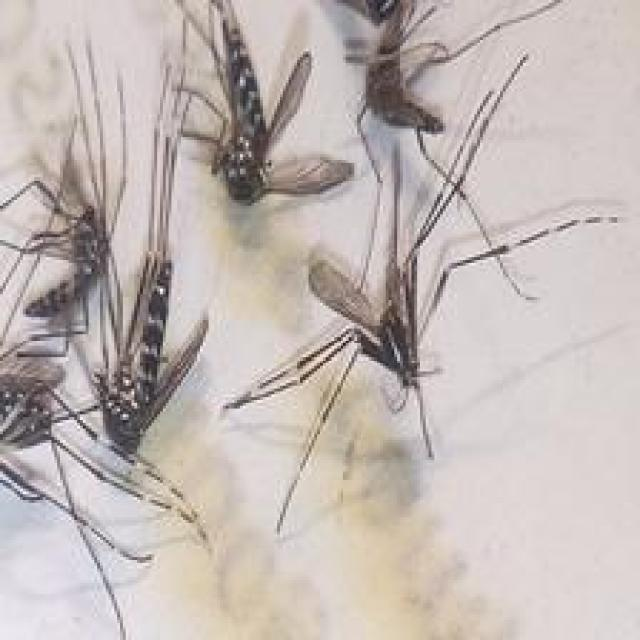Aedes albopictus: (222, 49, 622, 534)
